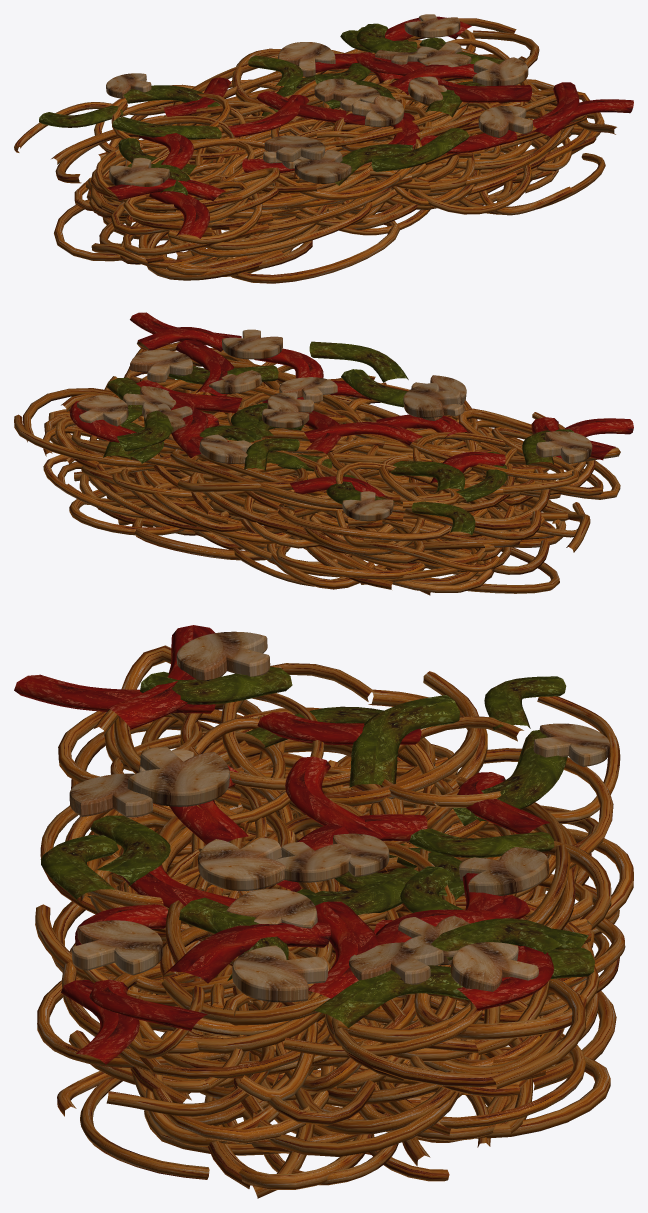
The model's file is stir-fry.glb.
3 views of the same model, one above another, from view 1: azimuth 30°, elevation 25°; view 2: azimuth 150°, elevation 25°; view 3: azimuth 270°, elevation 25° (orthographic). The views are drawn at different scales.
Visible parts, largest first — view 1: Individual noodles, peppers and mushrooms; view 2: Individual noodles, peppers and mushrooms; view 3: Individual noodles, peppers and mushrooms.
Boxes of the visible parts, x1,y1,x2,y2 form: Individual noodles, peppers and mushrooms: [14, 14, 633, 283]; Individual noodles, peppers and mushrooms: [14, 312, 633, 595]; Individual noodles, peppers and mushrooms: [14, 625, 633, 1198].
Size of the model in its own units: 0.1446 by 0.0299 by 0.087.
1 material, 1 textured.
